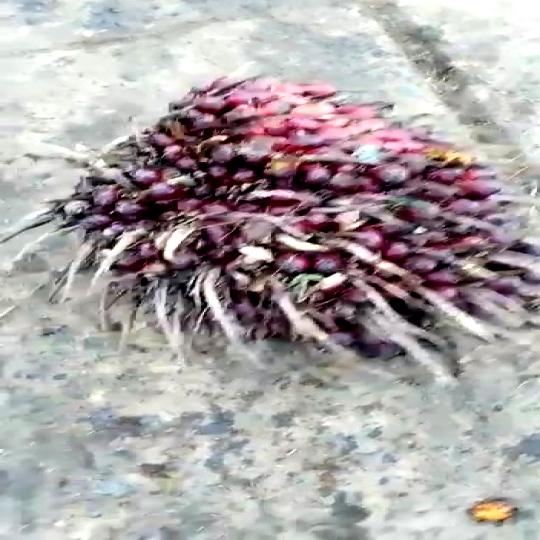masak: (57, 71, 534, 372)
